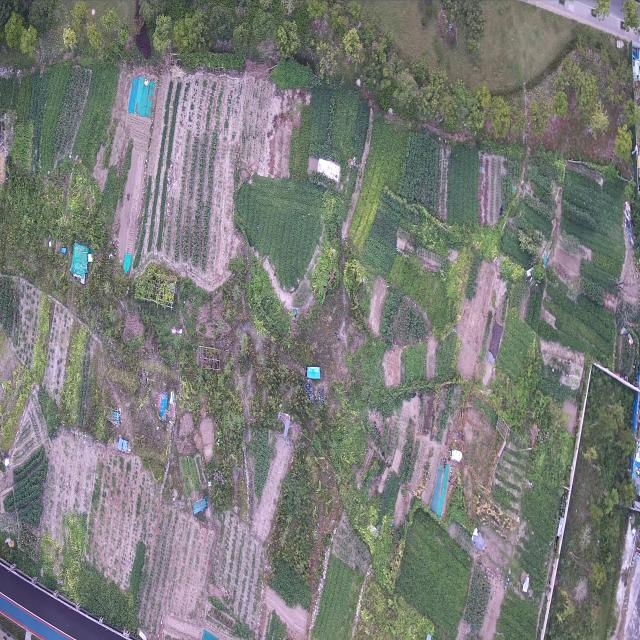UAV: (277, 414, 298, 446)
